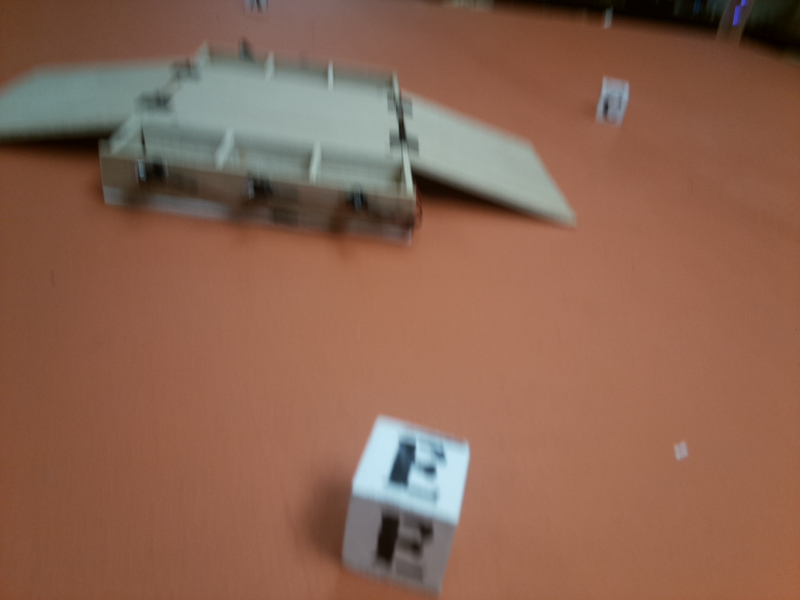blockA: (243, 1, 272, 21)
blockC: (596, 73, 629, 136)
blockE: (333, 413, 465, 593)
corner: (708, 1, 749, 52)
side: (99, 123, 425, 255)
slope: (405, 93, 584, 233), (2, 58, 180, 148)
